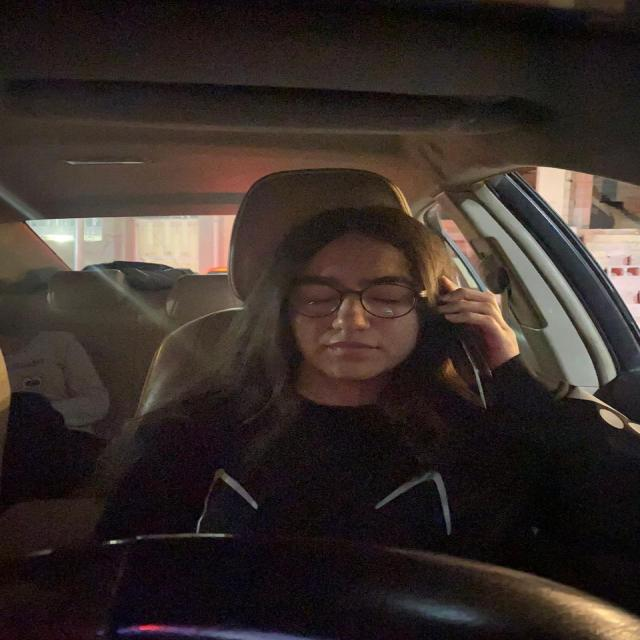mobile: (437, 309, 498, 416)
person: (277, 212, 431, 393)
